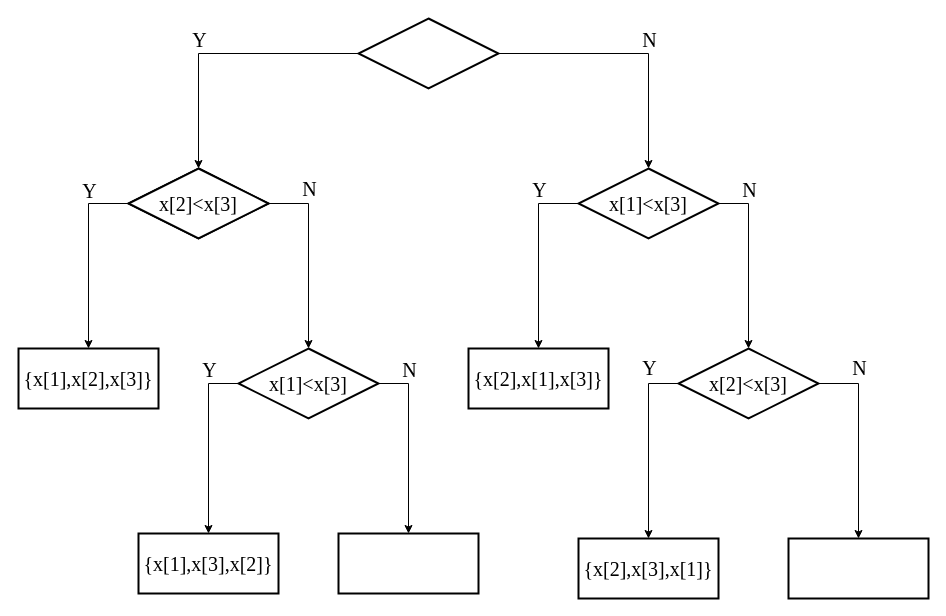
Image size: 946x616. Some labels were removed from this diagram. The shapes that lost their labels are listed below. From the top down, each one's centre as x and y in pixels, then its label:
the point at 428,53: x[1]<x[2]
the point at 408,563: {x[3],x[1],x[2]}
the point at 858,568: {x[3],x[2],x[1]}
